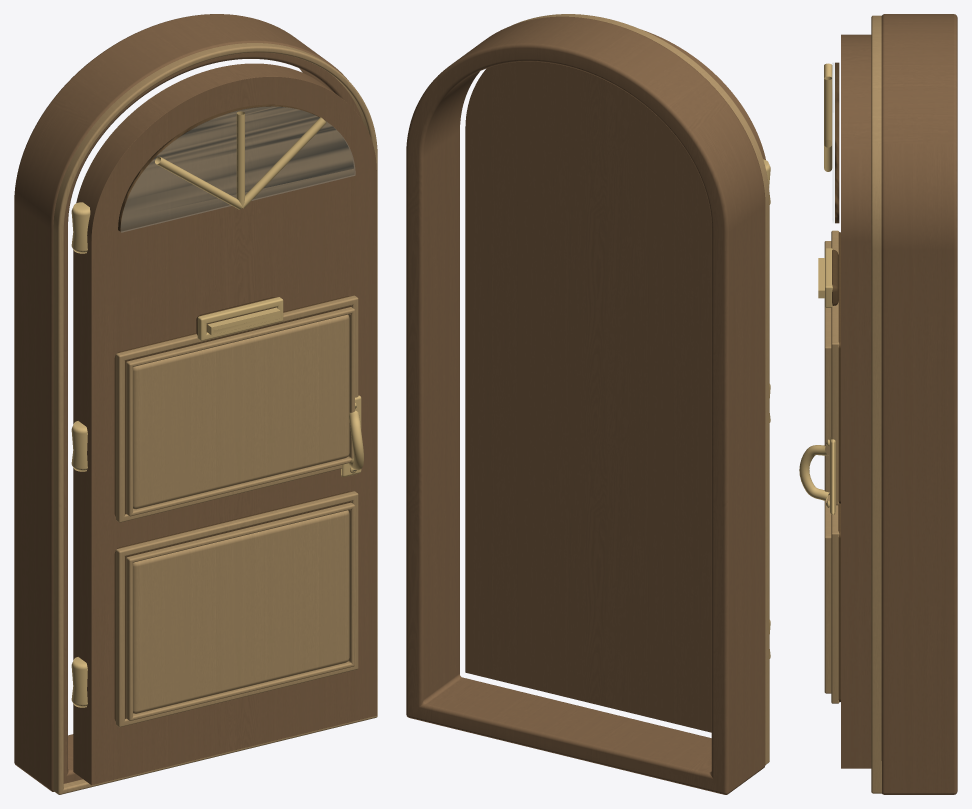
File: about-front.glb
3 views of the same model, side by side, from view 1: azimuth 30°, elevation 25°; view 2: azimuth 150°, elevation 25°; view 3: azimuth 270°, elevation 25° (orthographic). The views are drawn at different scales.
Parts seen in each view (by area): view 1: hinge_left__Joinery_warm_walnut, hinge_left__Joinery_honey_oak, frame__Joinery_warm_walnut, hinge_left__Joinery_recessed_walnut, hinge_left__Joinery_clear_glass, frame__Joinery_honey_oak, hinge_left__Joinery_brass_fittings; view 2: hinge_left__Joinery_warm_walnut, frame__Joinery_warm_walnut, frame__Joinery_honey_oak; view 3: frame__Joinery_warm_walnut, hinge_left__Joinery_warm_walnut, frame__Joinery_honey_oak, hinge_left__Joinery_honey_oak, hinge_left__Joinery_brass_fittings, hinge_left__Joinery_recessed_walnut, hinge_left__Joinery_clear_glass.
Part boxes in pixels (bbox=[...]): hinge_left__Joinery_warm_walnut: bbox=[73, 63, 376, 785]; hinge_left__Joinery_honey_oak: bbox=[115, 295, 358, 727]; frame__Joinery_warm_walnut: bbox=[14, 14, 362, 791]; hinge_left__Joinery_recessed_walnut: bbox=[114, 104, 354, 721]; hinge_left__Joinery_clear_glass: bbox=[121, 106, 355, 231]; frame__Joinery_honey_oak: bbox=[53, 43, 377, 794]; hinge_left__Joinery_brass_fittings: bbox=[71, 111, 363, 707]; hinge_left__Joinery_warm_walnut: bbox=[465, 30, 765, 732]; frame__Joinery_warm_walnut: bbox=[406, 16, 765, 794]; frame__Joinery_honey_oak: bbox=[512, 14, 769, 764]; frame__Joinery_warm_walnut: bbox=[881, 14, 957, 794]; hinge_left__Joinery_warm_walnut: bbox=[841, 34, 871, 768]; frame__Joinery_honey_oak: bbox=[871, 15, 881, 793]; hinge_left__Joinery_honey_oak: bbox=[824, 230, 839, 703]; hinge_left__Joinery_brass_fittings: bbox=[799, 63, 835, 514]; hinge_left__Joinery_recessed_walnut: bbox=[832, 62, 840, 702]; hinge_left__Joinery_clear_glass: bbox=[832, 63, 834, 222].
Size of the model in its own units: 1.13 by 2.37 by 0.4949.
6 materials, 3 textured.
